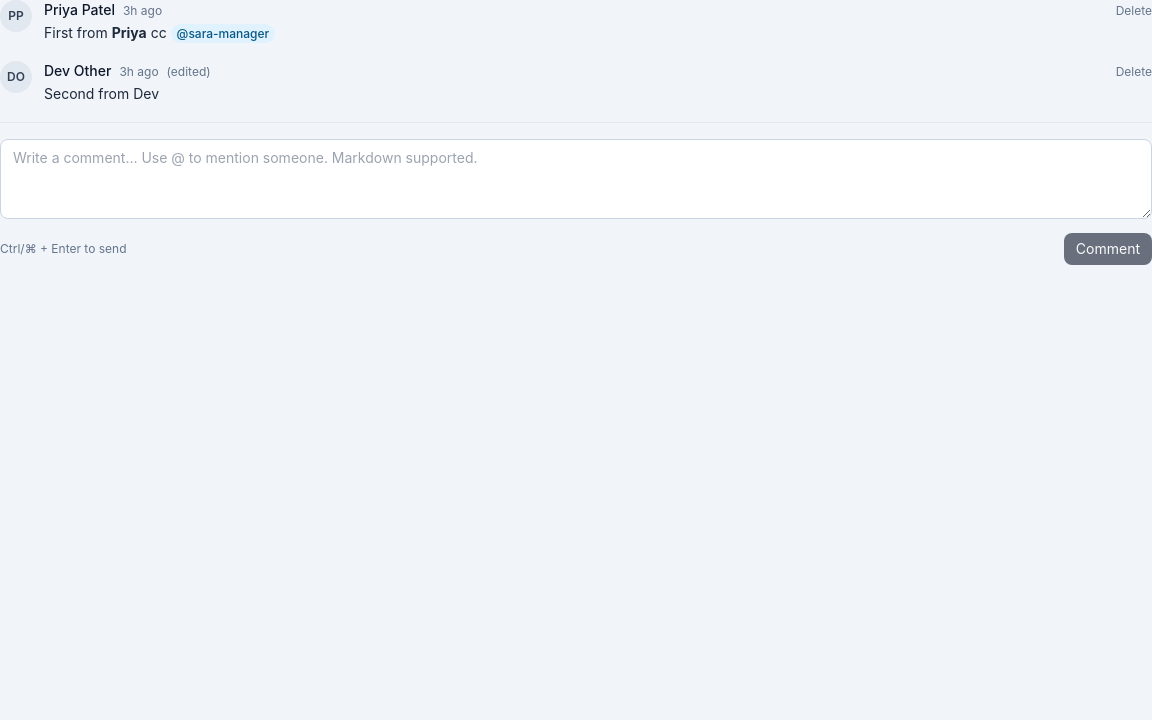
Test case: CommentsTab permissions › closes the confirmation and shows an error toast when delete fails
The image size is (1152, 720).
Click the button "Delete" in the row of "Priya Patel" at point(1134, 11), box [1116,3,1151,19]
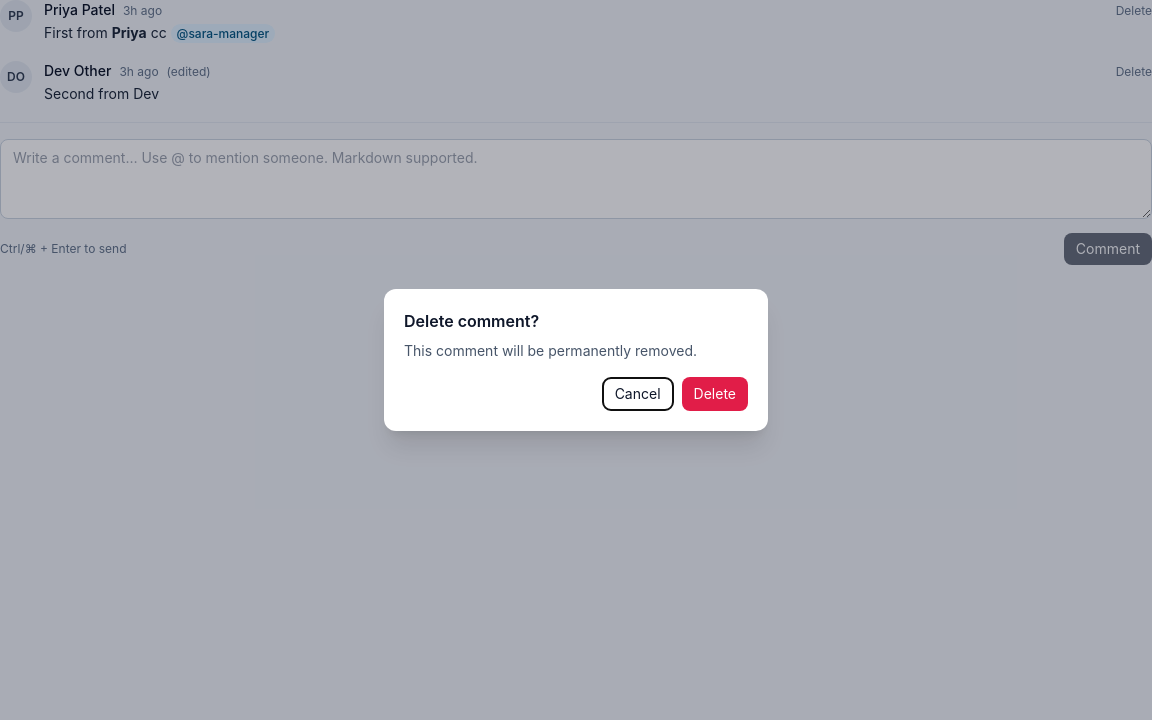
Click the button "Delete" at point(715, 394), box [682,377,748,411]
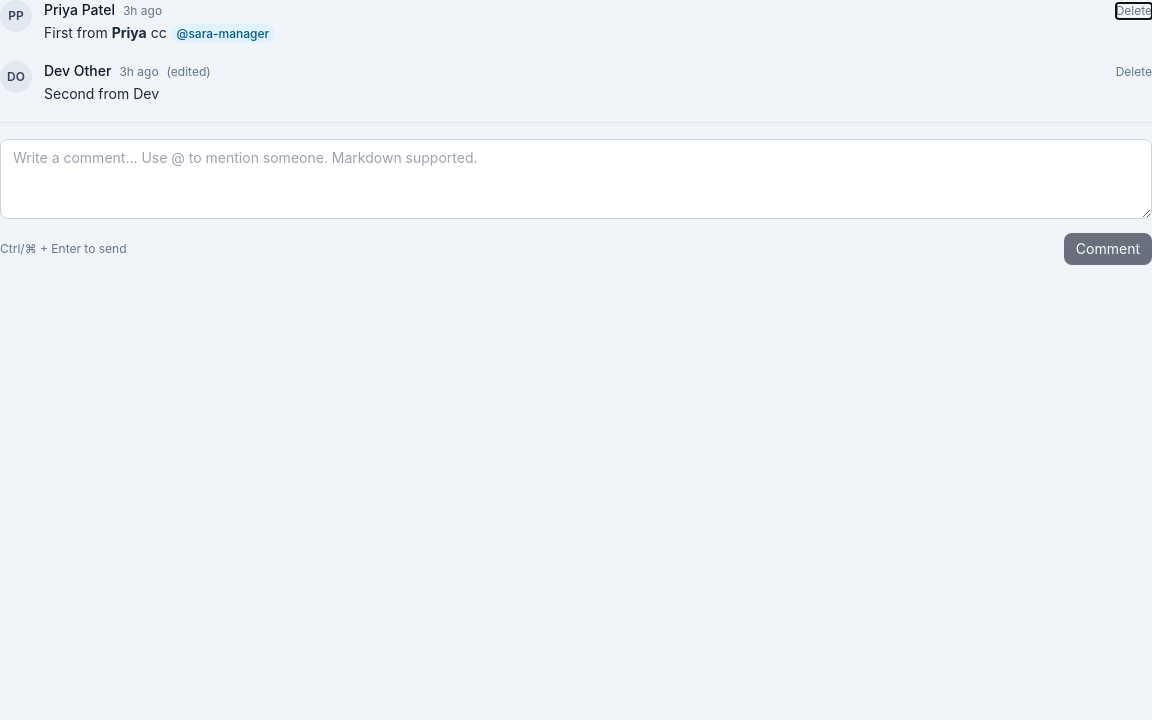
Expected: the number of list items with test id "comment" is 2, [0,0,1151,45]; [0,61,1151,106]
Expected: the dialog is gone
